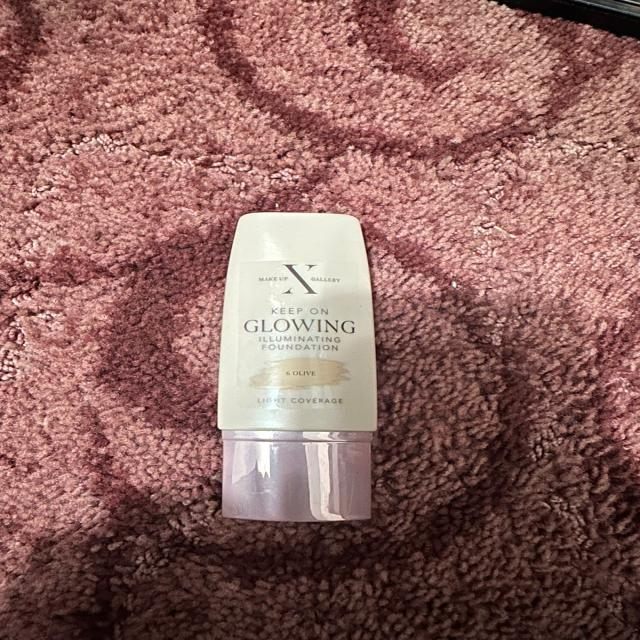lotion: (180, 167, 404, 547)
